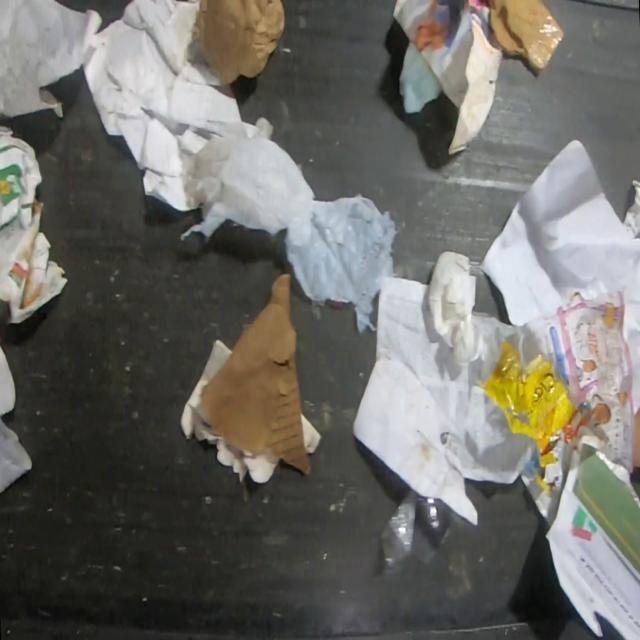cardboard: (199, 271, 312, 475), (352, 355, 480, 528), (178, 337, 280, 484), (0, 124, 69, 326), (487, 0, 565, 75), (0, 343, 18, 416), (301, 414, 324, 453), (631, 407, 640, 468)
soft_plastic: (177, 115, 400, 335), (474, 335, 580, 495), (370, 483, 448, 585), (398, 42, 443, 115)
